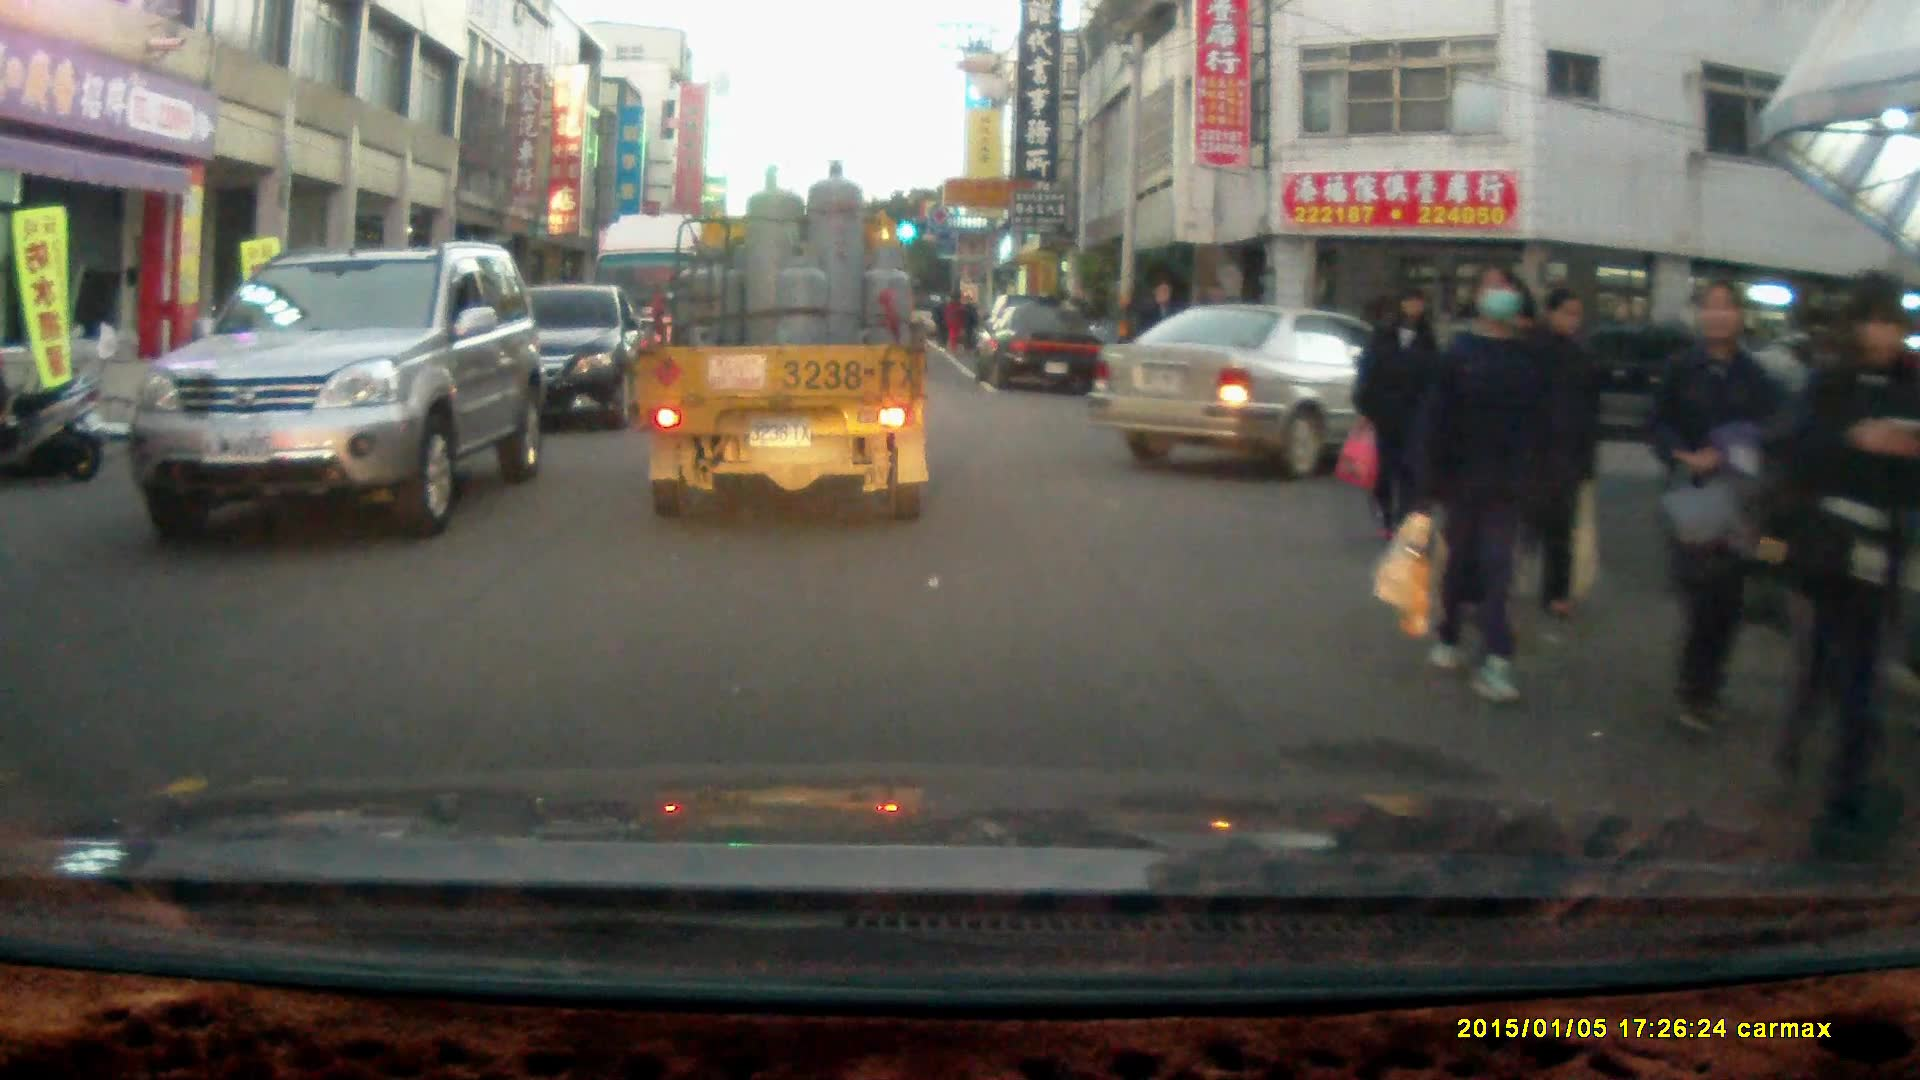pedestrian: (1776, 282, 1915, 845), (1425, 257, 1591, 711), (1644, 278, 1791, 746), (1504, 282, 1596, 621), (1351, 283, 1449, 561), (1136, 277, 1190, 440)
vehicle: (129, 242, 544, 536), (629, 156, 936, 520), (1089, 307, 1482, 482), (439, 286, 646, 433), (589, 212, 747, 398), (979, 298, 1107, 393)
